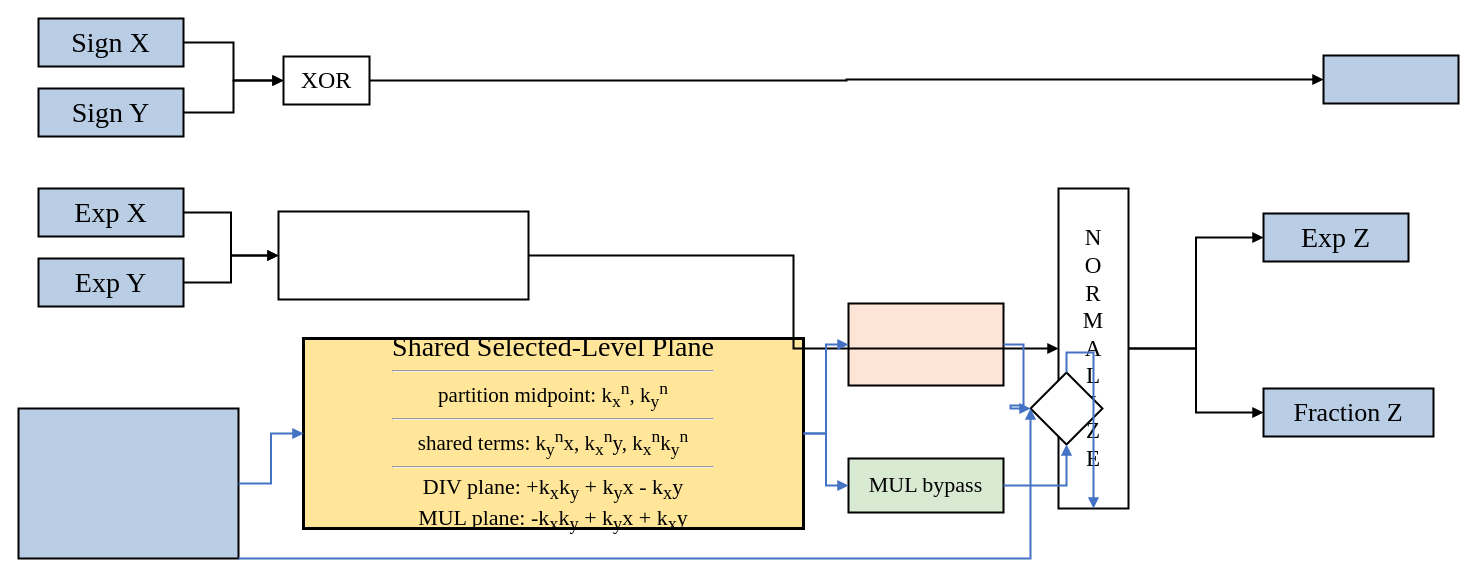
Some shapes in this 1476 by 584 pixel diagram are drawn without their labels. Each missing label, with the centre of its shape:
Control Mode: DIV / MUL Level: L0--L3 Fraction X Fraction Y: [128,483]
DIV scale LUT / constant 1/(k y n ) 2: [925,344]
Exponent Unit MUL: E x + E y - Bias DIV: E x - E y + Bias: [403,255]
Mode Select: [1066,408]
Sign Z: [1390,79]
